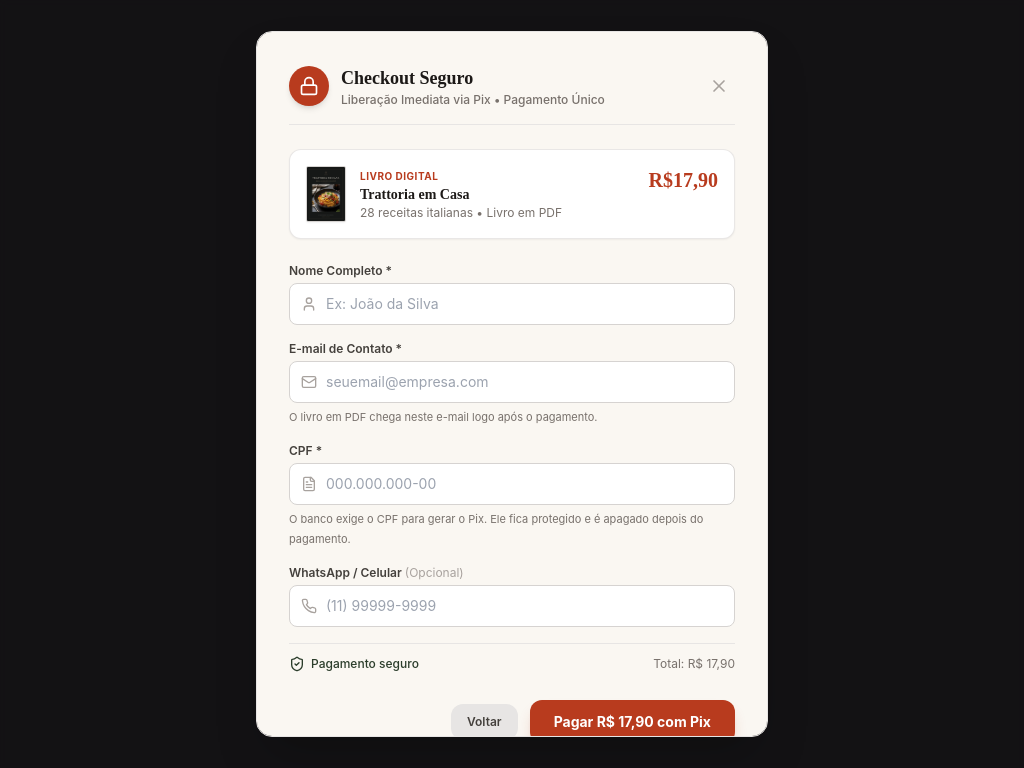
NORQVA — Checkout Data Contract & Validation (Client-Side) › CheckoutView Component UX & Data Contract › disables submit button and shows error when required fields are missing or invalid
Note: Enter single-word name
In the field with placeholder "Ex: João da Silva": (512, 304) left=289, top=283, right=735, bottom=325, type "Maria"
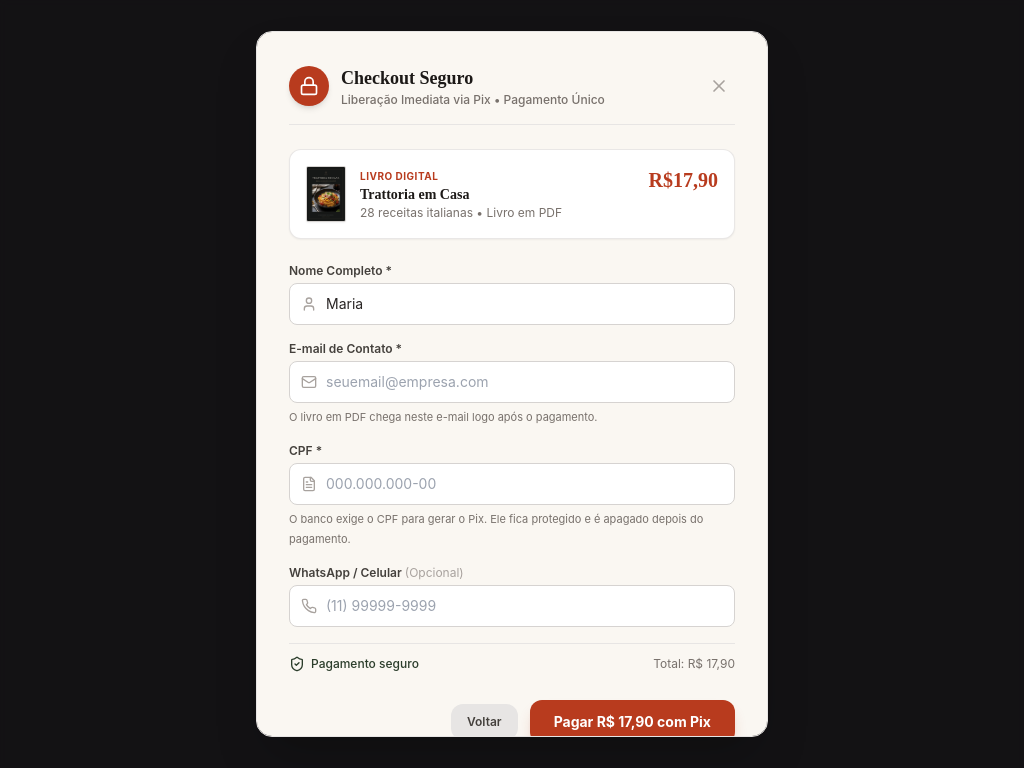
Leave the field with placeholder "Ex: João da Silva", box left=289, top=283, right=735, bottom=325
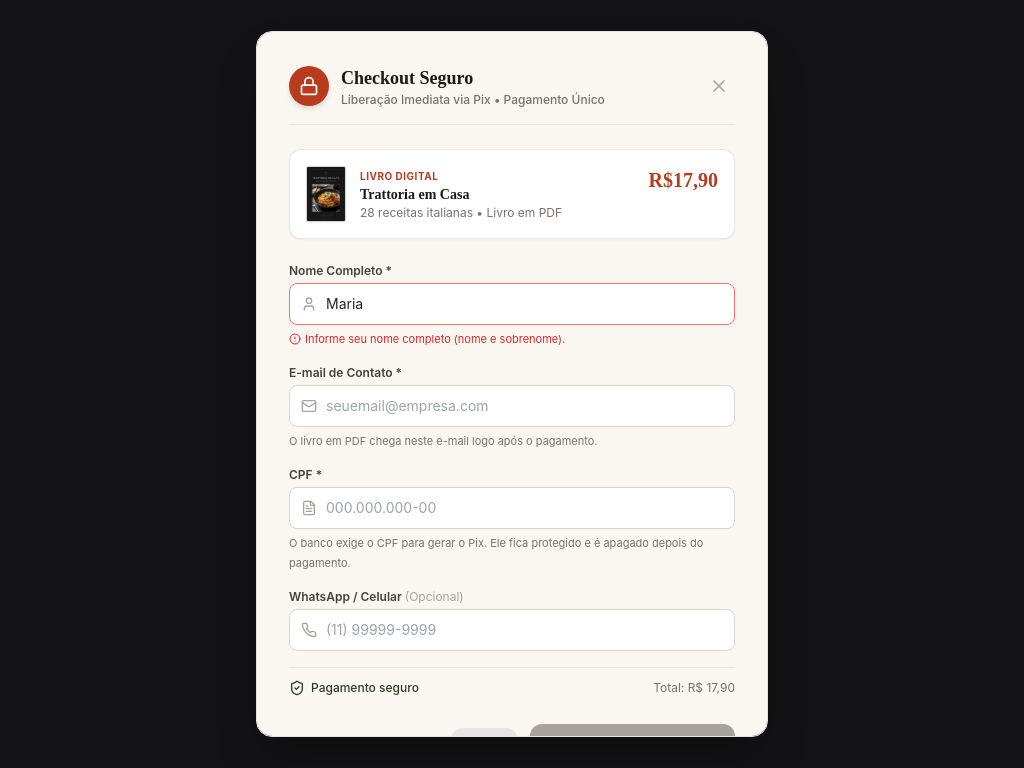
Check: the text "Informe seu nome completo (nome e sobrenome)." is shown, box left=289, top=332, right=565, bottom=346
Note: Enter invalid email
In the field with placeholder "seuemail@empresa.com": (512, 406) left=289, top=385, right=735, bottom=427, type "maria@"
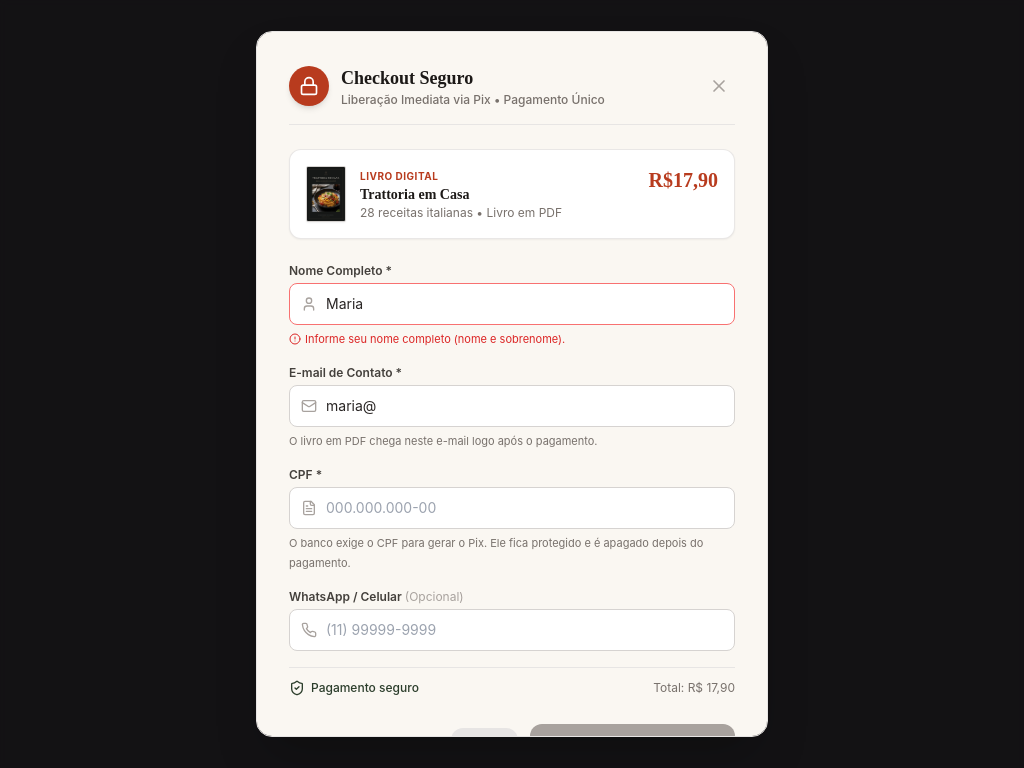
Leave the field with placeholder "seuemail@empresa.com" below "E-mail de Contato *", box left=289, top=385, right=735, bottom=427
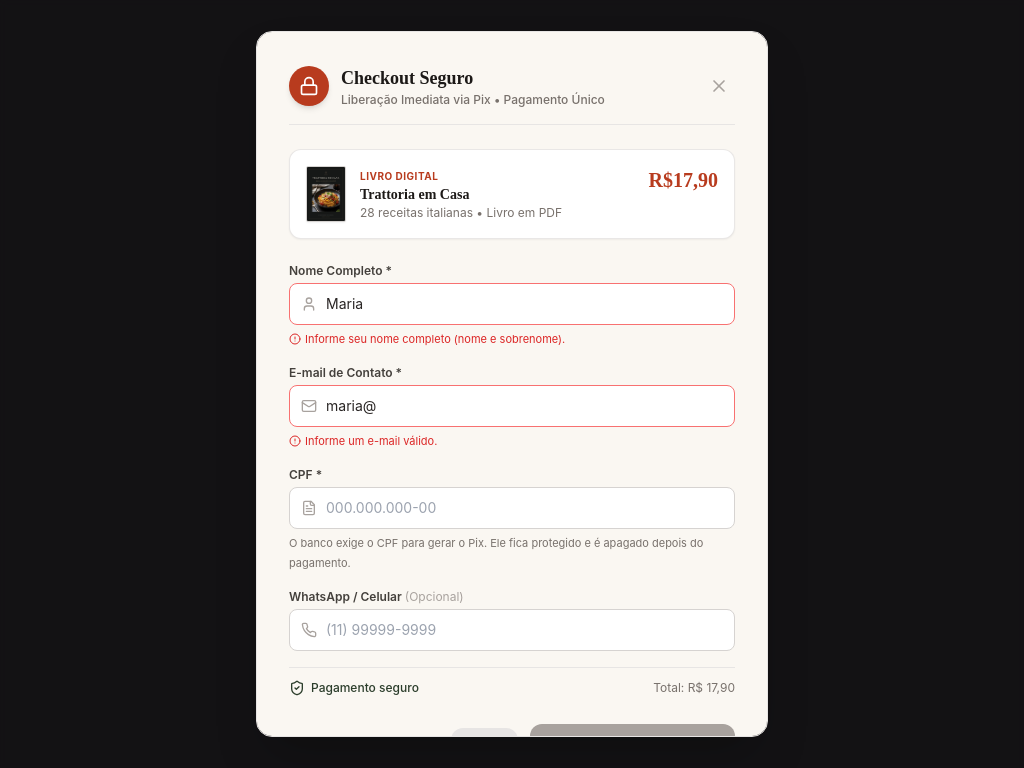
Check: the text "Informe um e-mail válido." is shown, box left=305, top=431, right=437, bottom=451
Note: Enter repeated digit CPF
In the field with placeholder "000.000.000-00": (512, 508) left=289, top=487, right=735, bottom=529, type "11111111111"
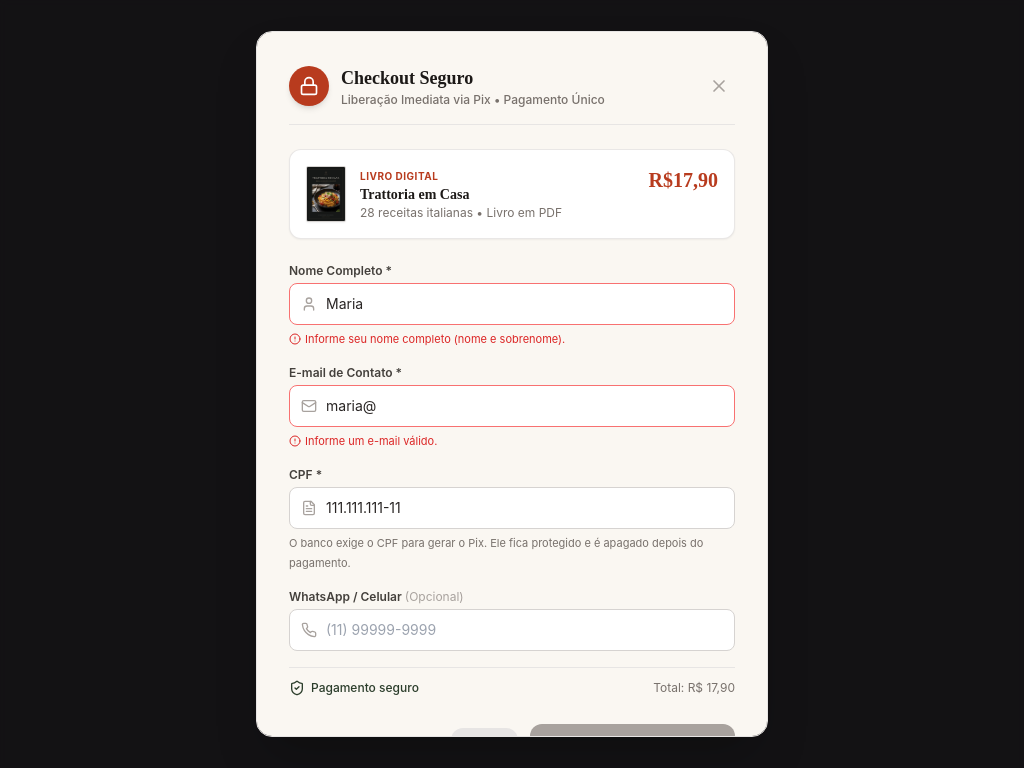
Leave the field with placeholder "000.000.000-00" below "CPF *", box left=289, top=487, right=735, bottom=529
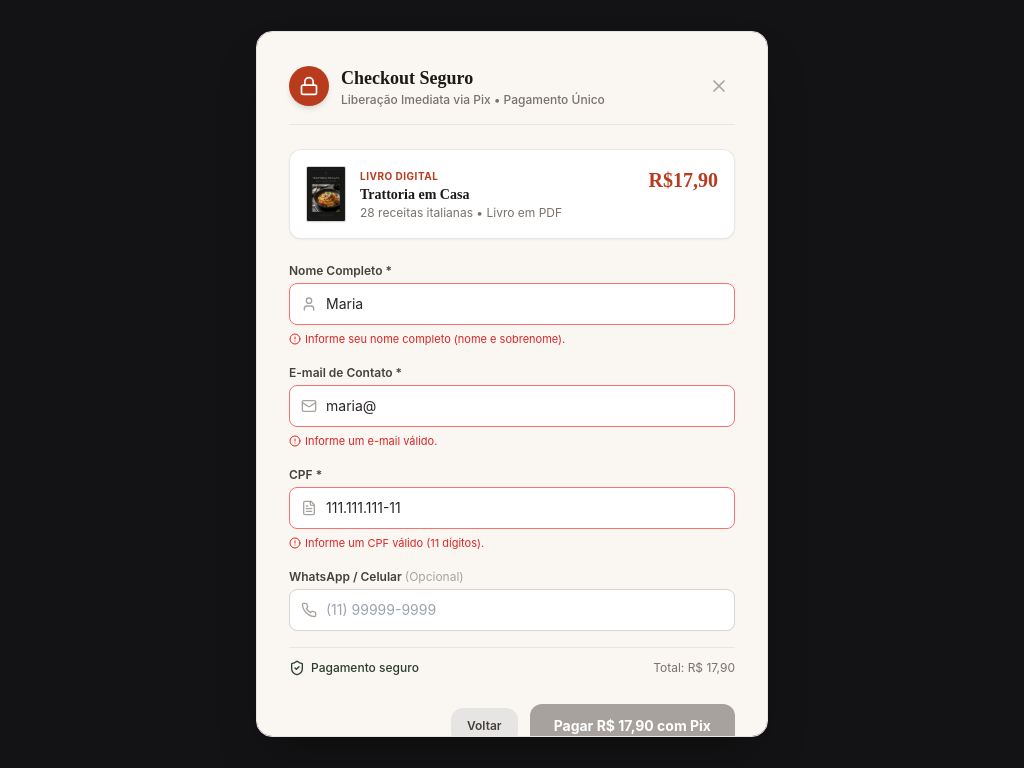
Check: the button "Pagar R$ 17,90 com Pix" is disabled, box left=530, top=704, right=735, bottom=737
Check: the text "Informe um CPF válido (11 dígitos)." is shown, box left=289, top=536, right=484, bottom=550
